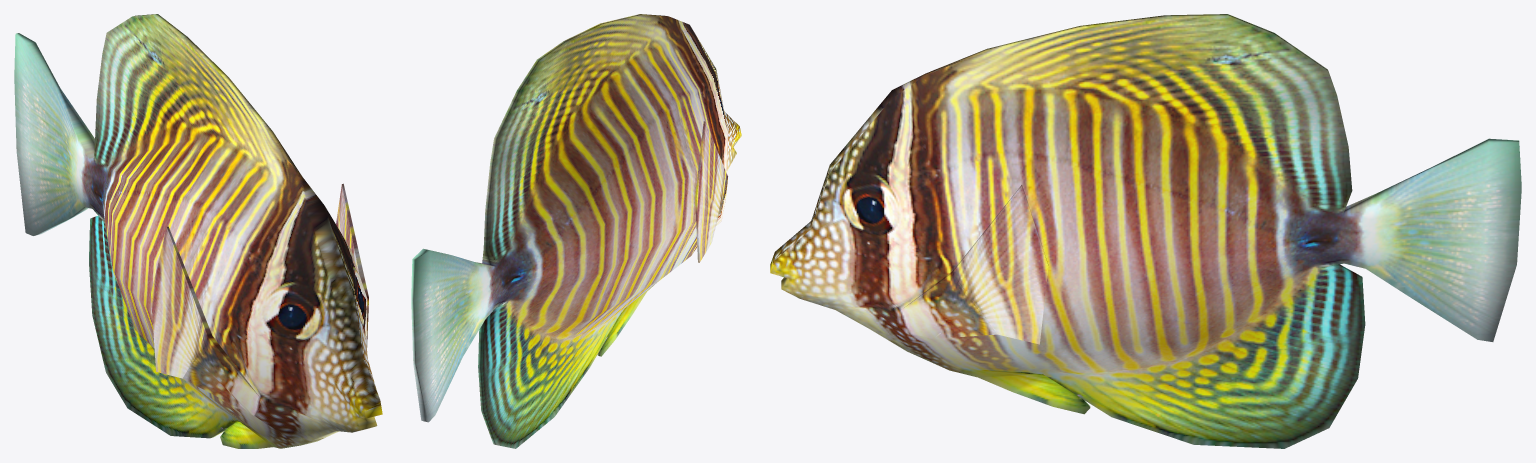
The model's file is Fish01.obj.
The picture shows the model from 3 angles, left to right: view 1: azimuth 30°, elevation 25°; view 2: azimuth 150°, elevation 25°; view 3: azimuth 270°, elevation 25°; orthographic projection. The views are drawn at different scales.
Visible parts, largest first — view 1: TropicalFish01; view 2: TropicalFish01; view 3: TropicalFish01.
Boxes of the visible parts, x1,y1,x2,y2 form: TropicalFish01: [14, 14, 382, 448]; TropicalFish01: [411, 14, 741, 448]; TropicalFish01: [770, 14, 1521, 448].
Size of the model in its own units: 8.56 by 18.46 by 29.03.
